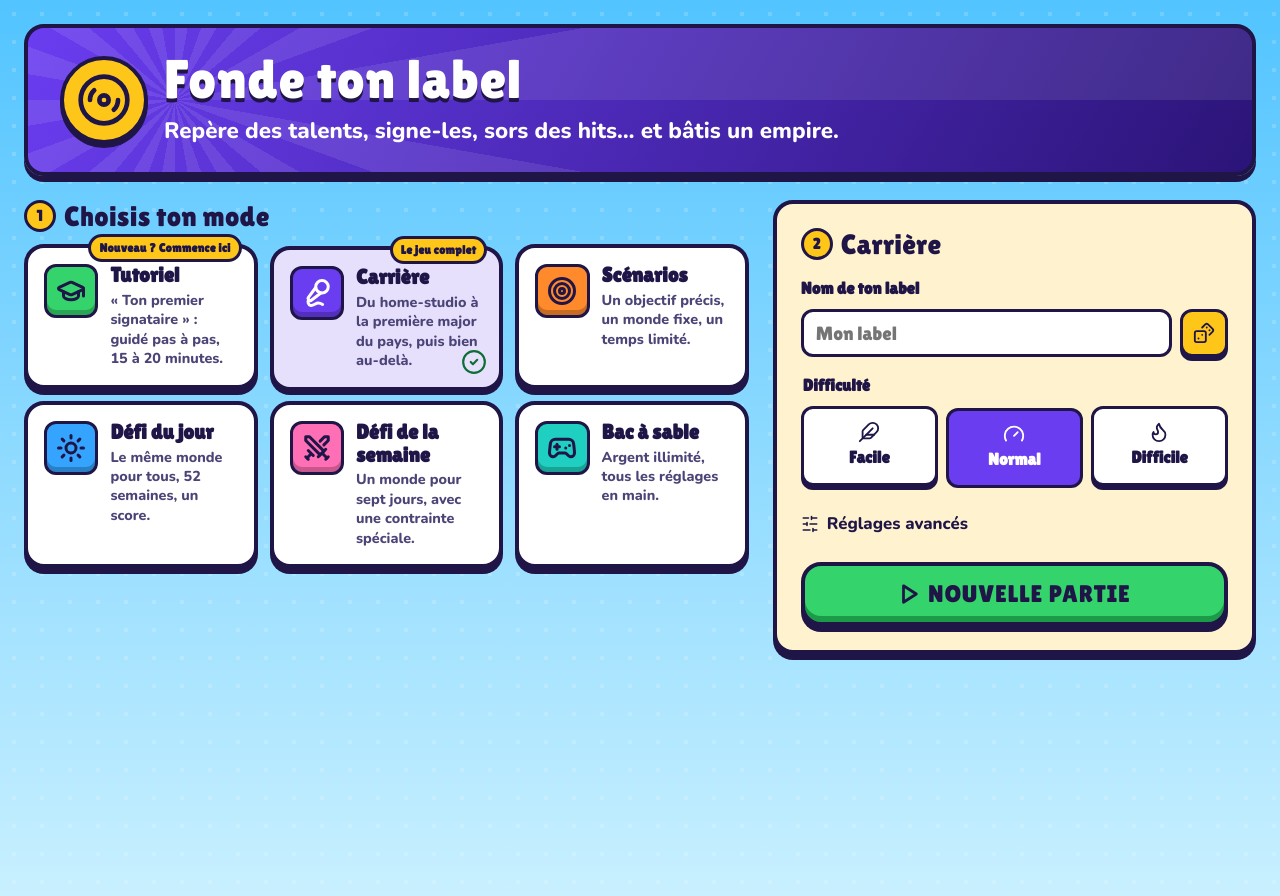
Test: QG dans la coquille › affiche finances, échéances, objectifs et actus d’une nouvelle partie
Click the button "Nouvelle partie". click: (1014, 594)
box: [801, 562, 1228, 626]
(page scrolled)
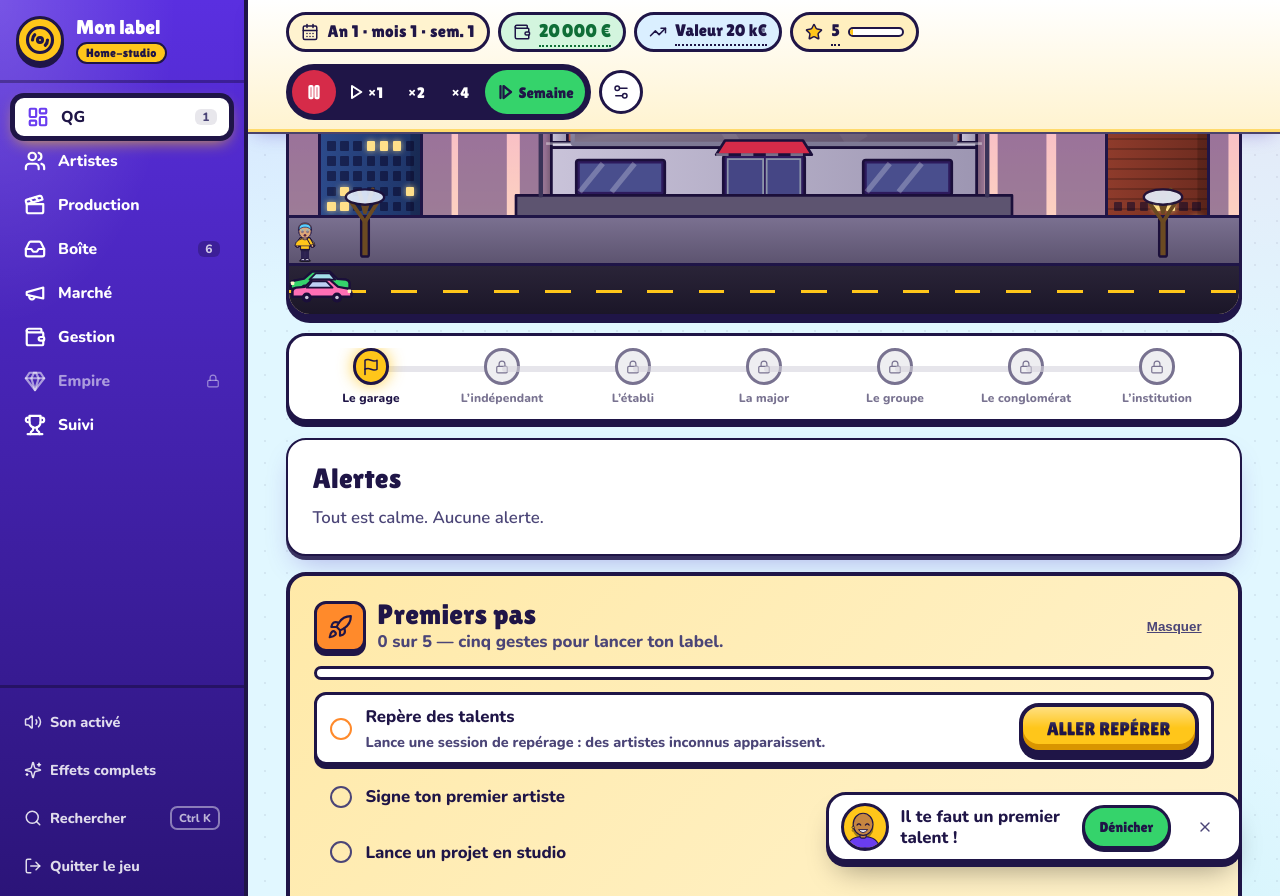
expect the heading "Alertes" is shown: met, box [312, 462, 402, 494]
expect the text "Tout est calme. Aucune alerte." is shown: met, box [312, 506, 544, 529]
